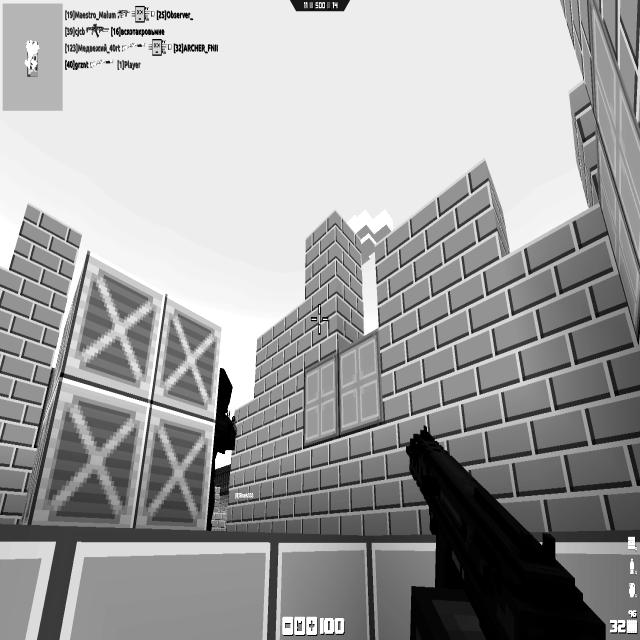Head: (216, 367, 232, 414)
Player: (209, 367, 237, 532)
